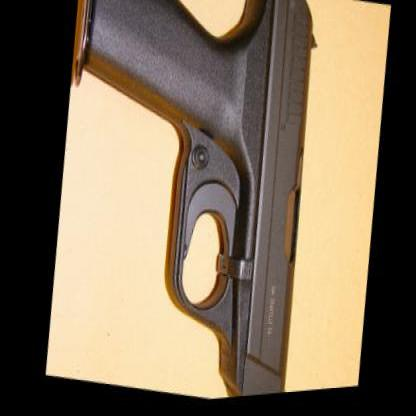pistol: (32, 0, 337, 412)
